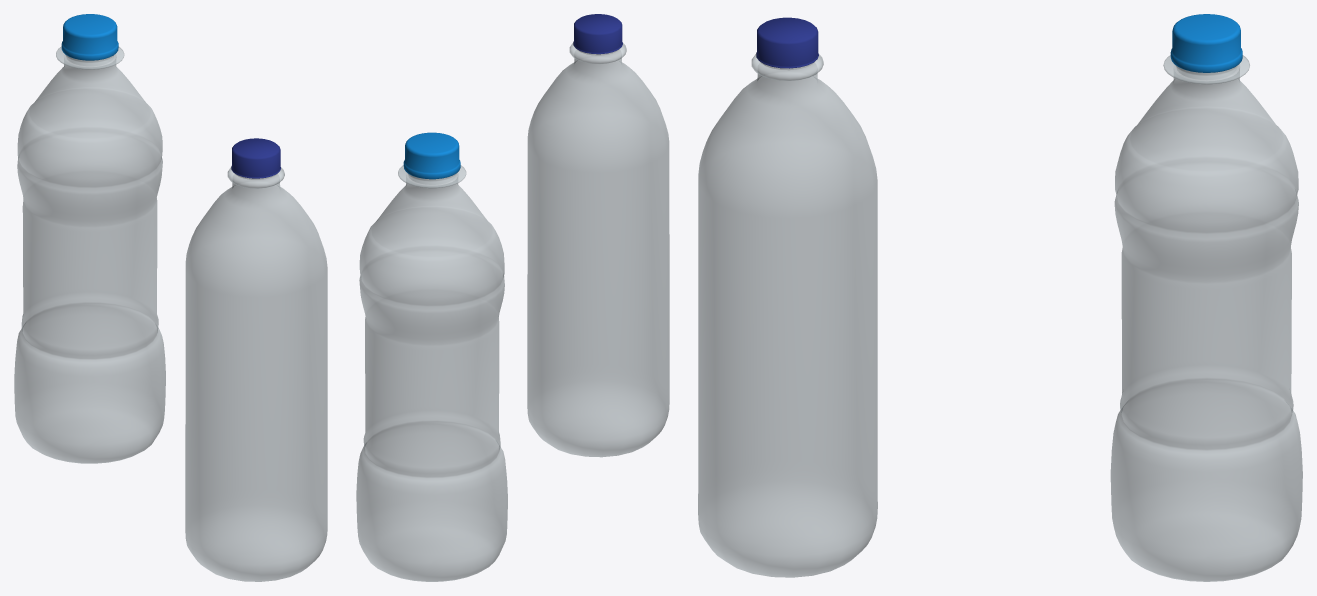
Rendered from 1-botol.glb.
The picture shows the model from 3 angles, left to right: view 1: azimuth 30°, elevation 25°; view 2: azimuth 150°, elevation 25°; view 3: azimuth 270°, elevation 25°; orthographic projection. The views are drawn at different scales.
Visible parts, largest first — view 1: SM_Water_bottle_1, SM_Water_bottle_2, SM_Water_bottle_1_cap, SM_Water_bottle_2_cap; view 2: SM_Water_bottle_1, SM_Water_bottle_2, SM_Water_bottle_1_cap, SM_Water_bottle_2_cap; view 3: SM_Water_bottle_1, SM_Water_bottle_2, SM_Water_bottle_1_cap, SM_Water_bottle_2_cap.
Boxes of the visible parts, box(x1,y1,x2,y2) form: SM_Water_bottle_1: box(14, 46, 165, 463); SM_Water_bottle_2: box(185, 167, 327, 581); SM_Water_bottle_1_cap: box(61, 14, 118, 60); SM_Water_bottle_2_cap: box(231, 138, 280, 178); SM_Water_bottle_1: box(356, 165, 507, 581); SM_Water_bottle_2: box(527, 43, 669, 457); SM_Water_bottle_1_cap: box(403, 132, 460, 179); SM_Water_bottle_2_cap: box(573, 14, 622, 54); SM_Water_bottle_1: box(1110, 55, 1302, 581); SM_Water_bottle_2: box(698, 53, 877, 577); SM_Water_bottle_1_cap: box(1170, 14, 1242, 72); SM_Water_bottle_2_cap: box(756, 17, 818, 68).
Size of the model in its own units: 0.1038 by 0.3158 by 0.3266.
2 materials, 2 textured.
